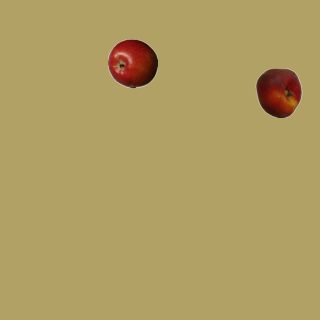Apple Braeburn: (107, 38, 157, 88)
Nectarine Flat: (253, 67, 303, 117)
